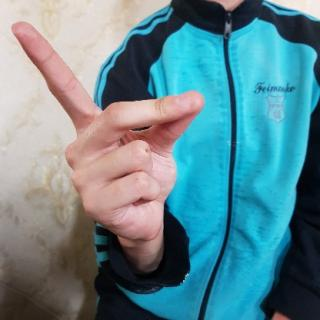TAA: (9, 14, 209, 254)
